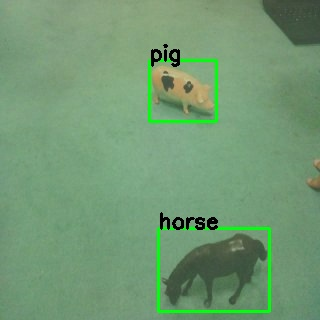horse: (161, 229, 277, 312)
pig: (145, 62, 215, 122)
